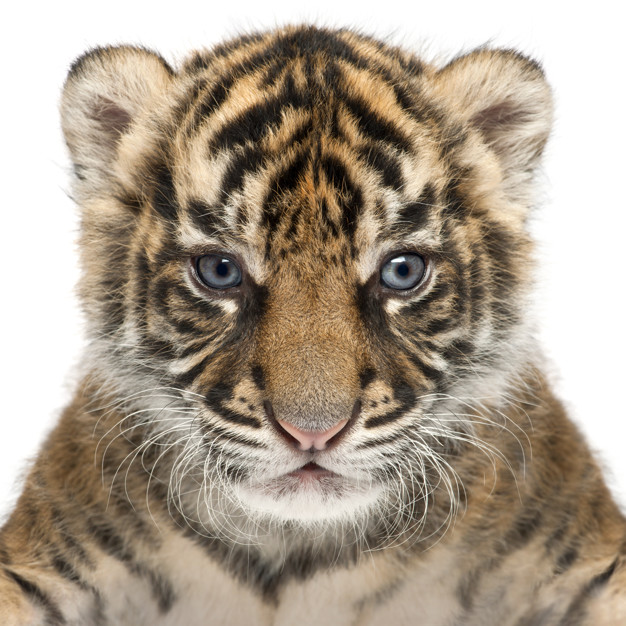Tigrew: (33, 25, 565, 583)
